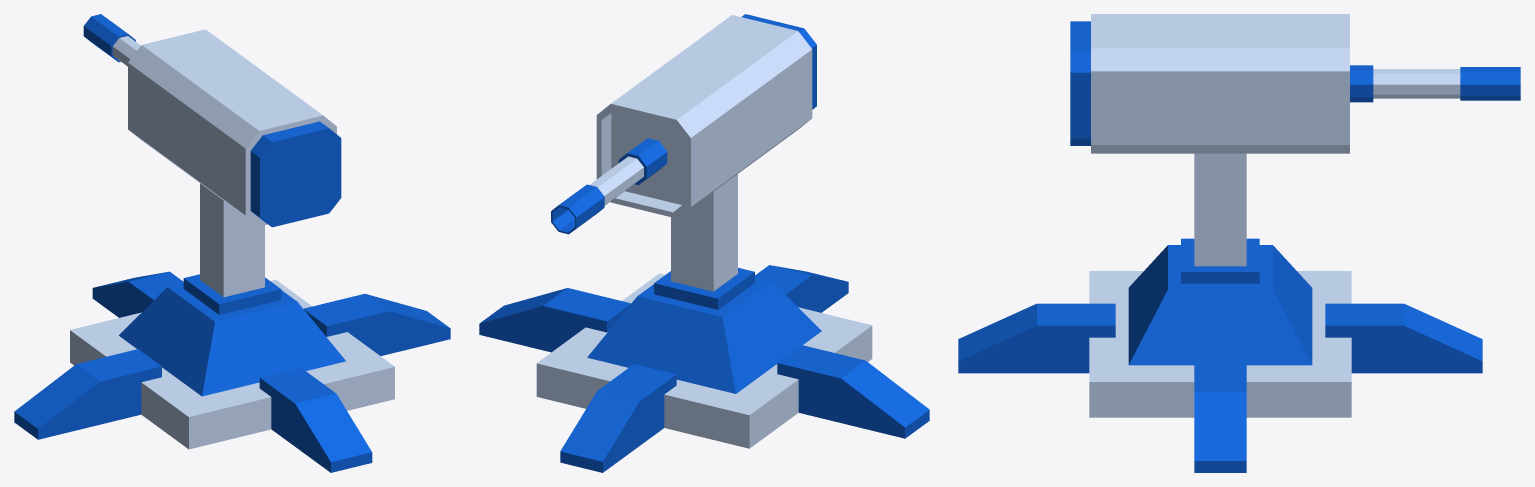
The model's file is Turret_1.fbx.
3 views of the same model, side by side, from view 1: azimuth 30°, elevation 25°; view 2: azimuth 150°, elevation 25°; view 3: azimuth 270°, elevation 25° (orthographic). The views are drawn at different scales.
Parts seen in each view (by area): view 1: TurretBase1, TurretHead1, TurretBarrel1; view 2: TurretBase1, TurretHead1, TurretBarrel1; view 3: TurretBase1, TurretHead1, TurretBarrel1.
Boxes of the visible parts, bbox=[...] form: TurretBase1: bbox=[14, 183, 450, 472]; TurretHead1: bbox=[128, 29, 341, 227]; TurretBarrel1: bbox=[83, 14, 140, 66]; TurretBase1: bbox=[479, 174, 929, 472]; TurretHead1: bbox=[596, 14, 816, 218]; TurretBarrel1: bbox=[551, 138, 667, 234]; TurretBase1: bbox=[958, 153, 1482, 472]; TurretHead1: bbox=[1070, 14, 1349, 153]; TurretBarrel1: bbox=[1350, 65, 1520, 102].
Bounding box in the file's own units: 40 × 27.86 × 42.9.
1 material, 1 textured.
